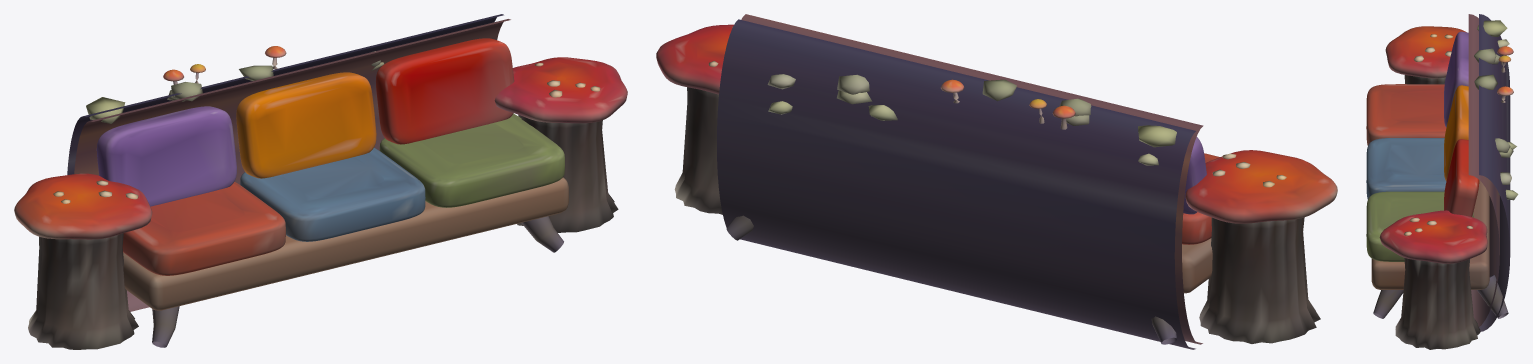
The model's file is mantar_kanepe.glb.
3 views of the same model, side by side, from view 1: azimuth 30°, elevation 25°; view 2: azimuth 150°, elevation 25°; view 3: azimuth 270°, elevation 25° (orthographic). The views are drawn at different scales.
Parts seen in each view (by area): view 1: mantar_kanepe_LOD0; view 2: mantar_kanepe_LOD0; view 3: mantar_kanepe_LOD0.
Boxes of the visible parts, left/top/right/bottom form: mantar_kanepe_LOD0: left=14, top=14, right=627, bottom=349; mantar_kanepe_LOD0: left=656, top=14, right=1337, bottom=349; mantar_kanepe_LOD0: left=1366, top=14, right=1518, bottom=349.
Size of what is drawn, in the model's own units: 3.15 by 1.05 by 0.8773.
